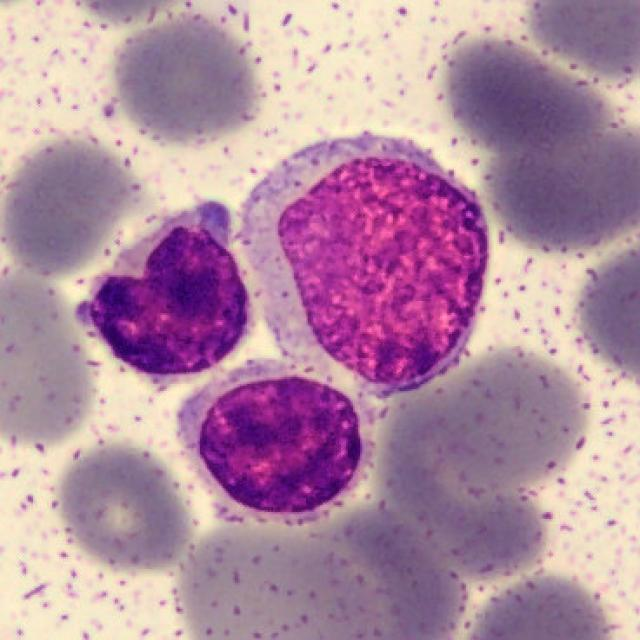Linfocito: (78, 204, 249, 379), (191, 375, 367, 524)
Mieloblasto: (237, 133, 489, 396)
